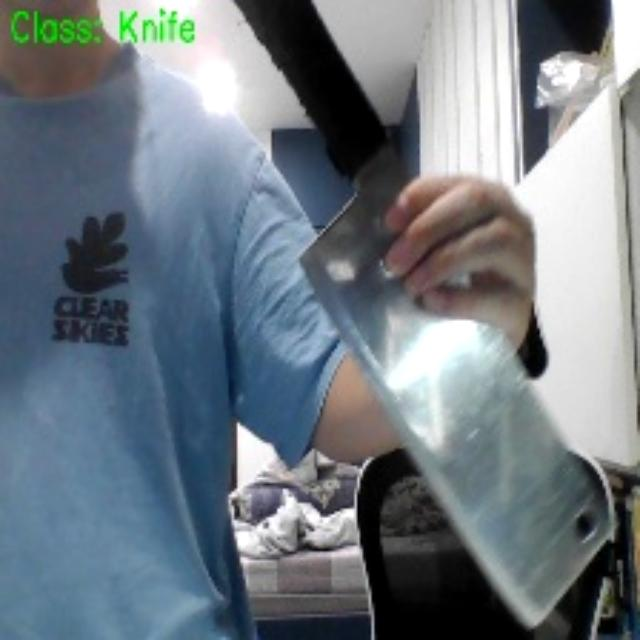Knife: (235, 0, 611, 625)
